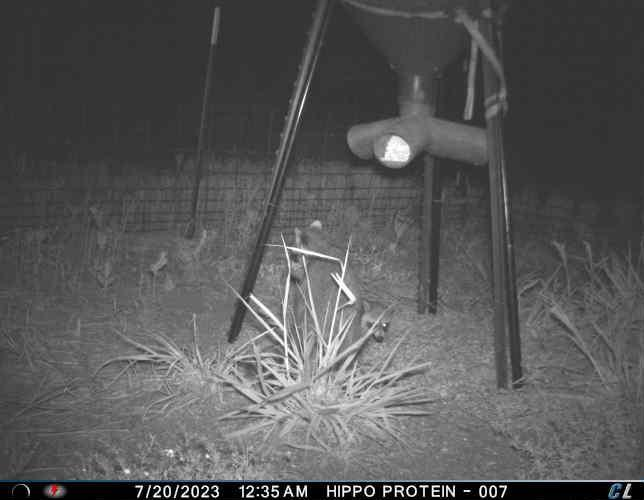Raccoon: (283, 217, 364, 375), (342, 298, 395, 366)
